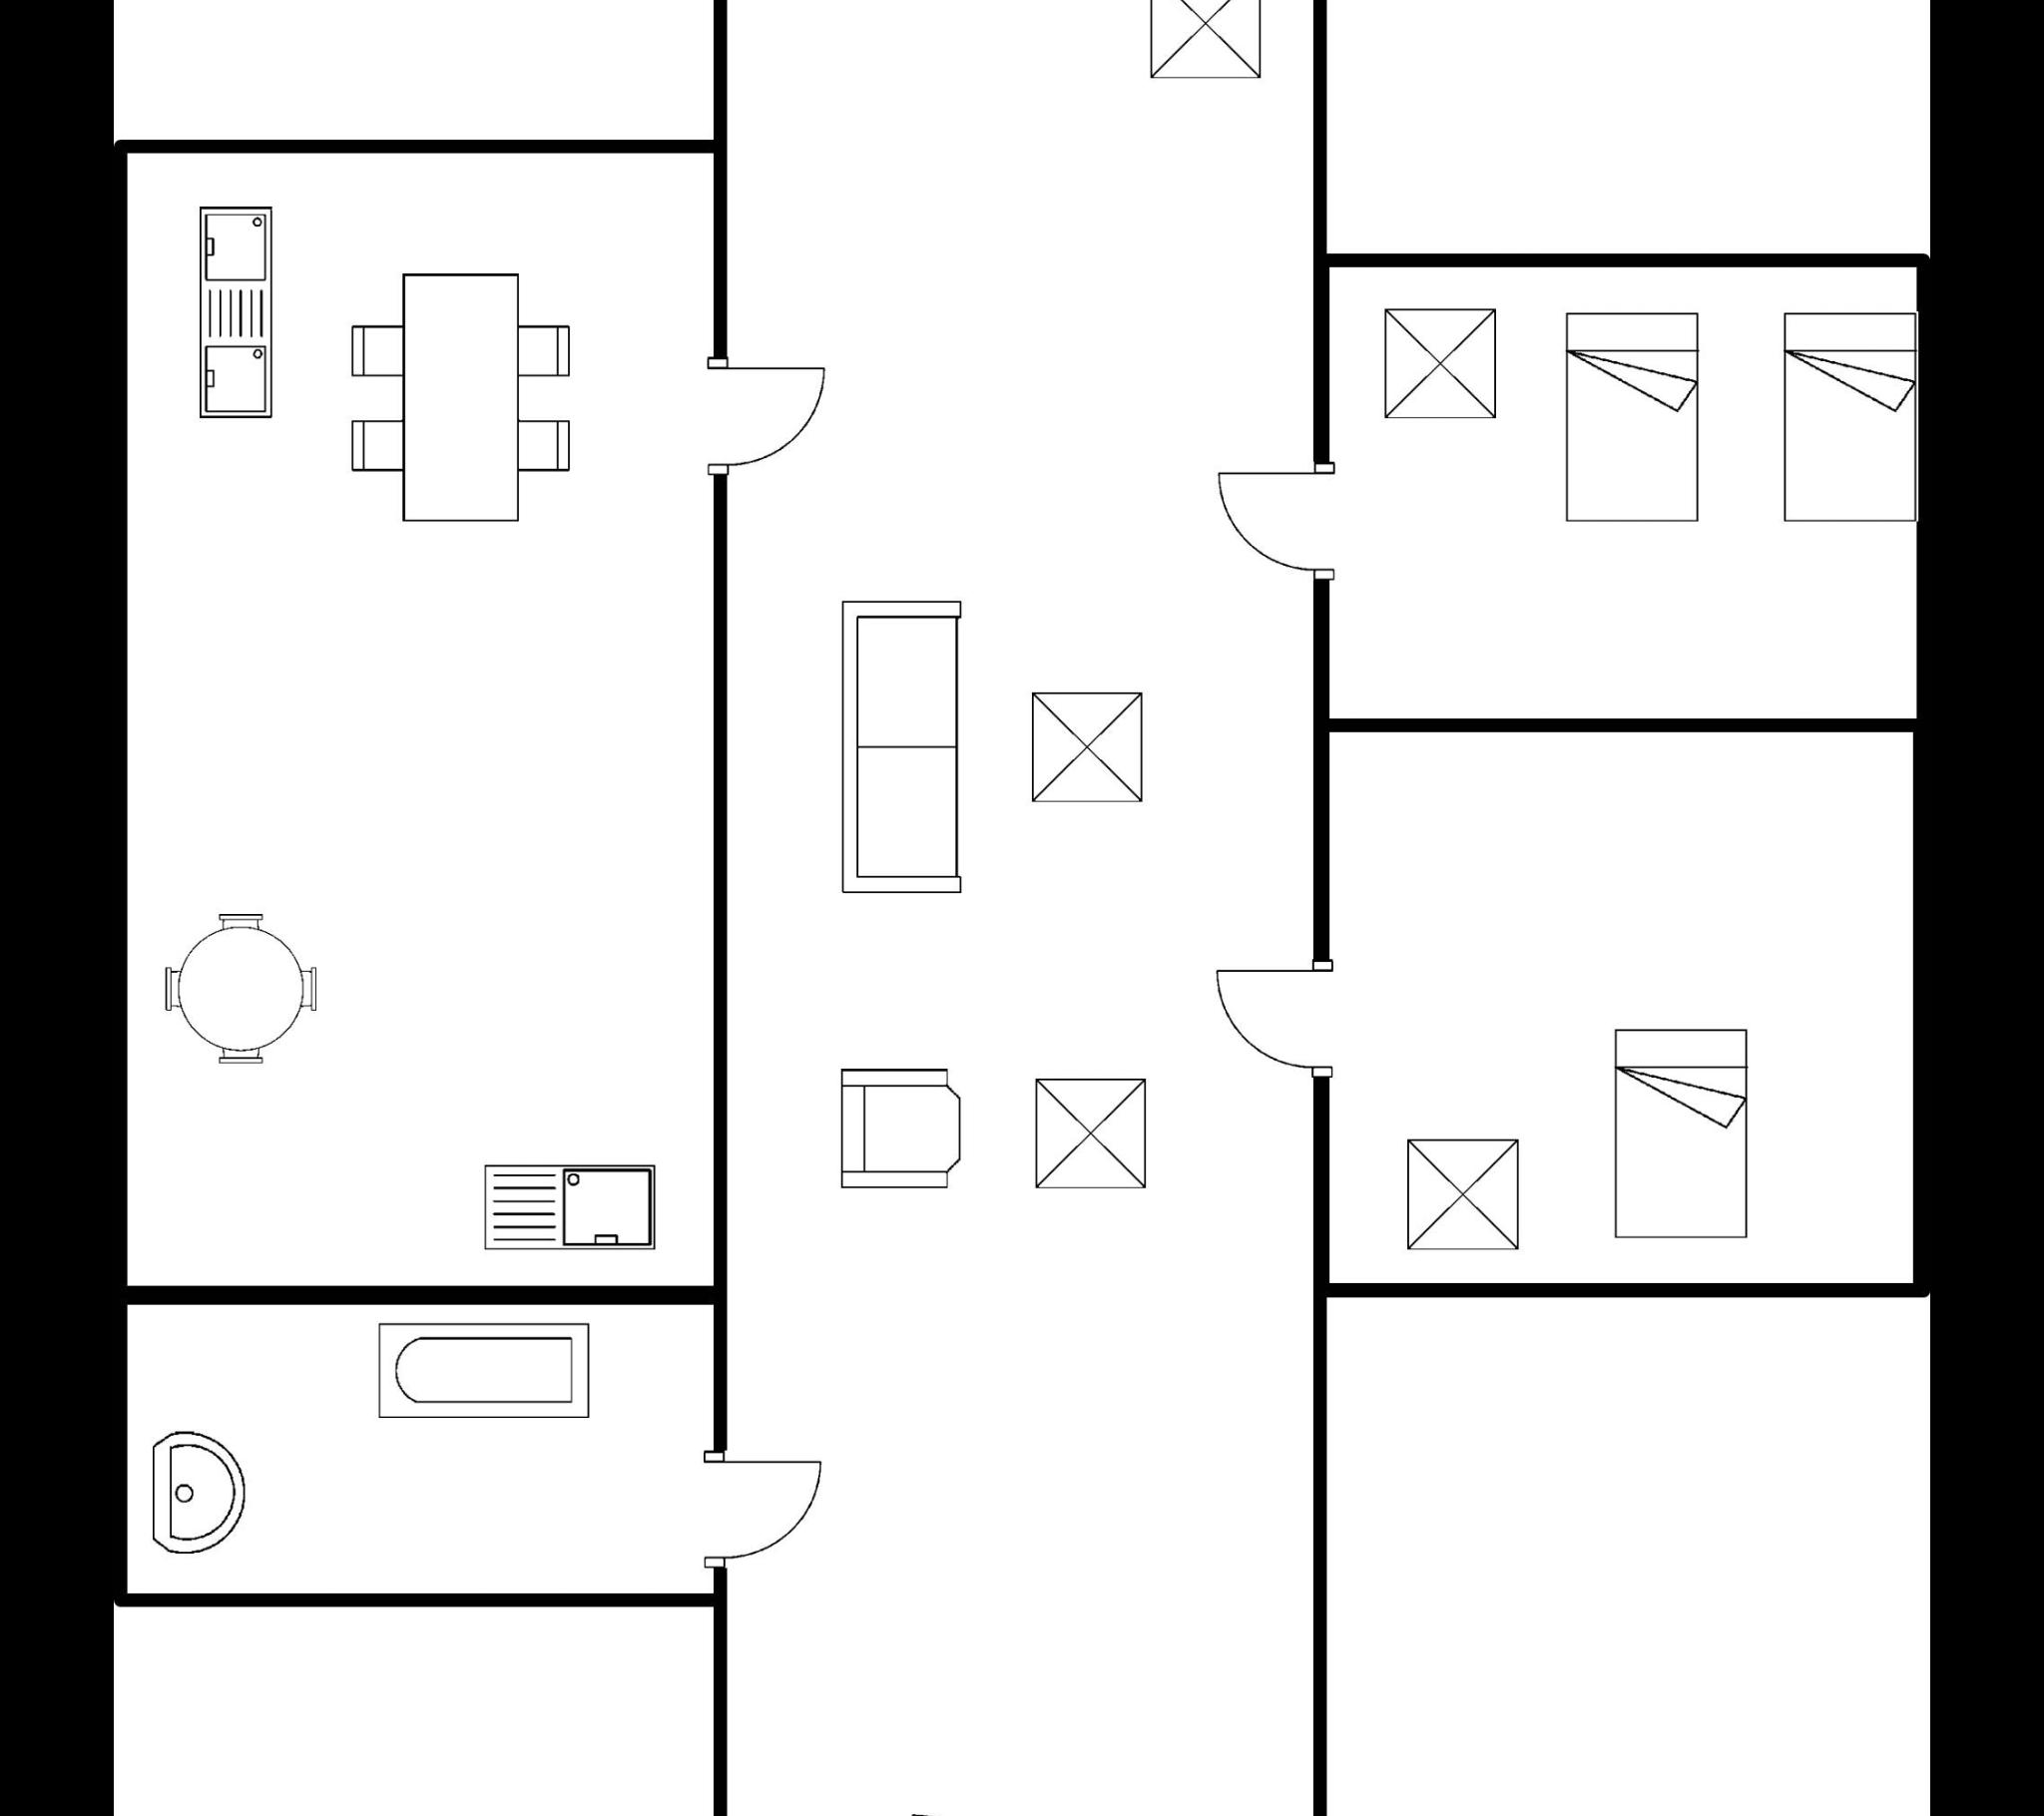sink: (188, 191, 286, 431)
